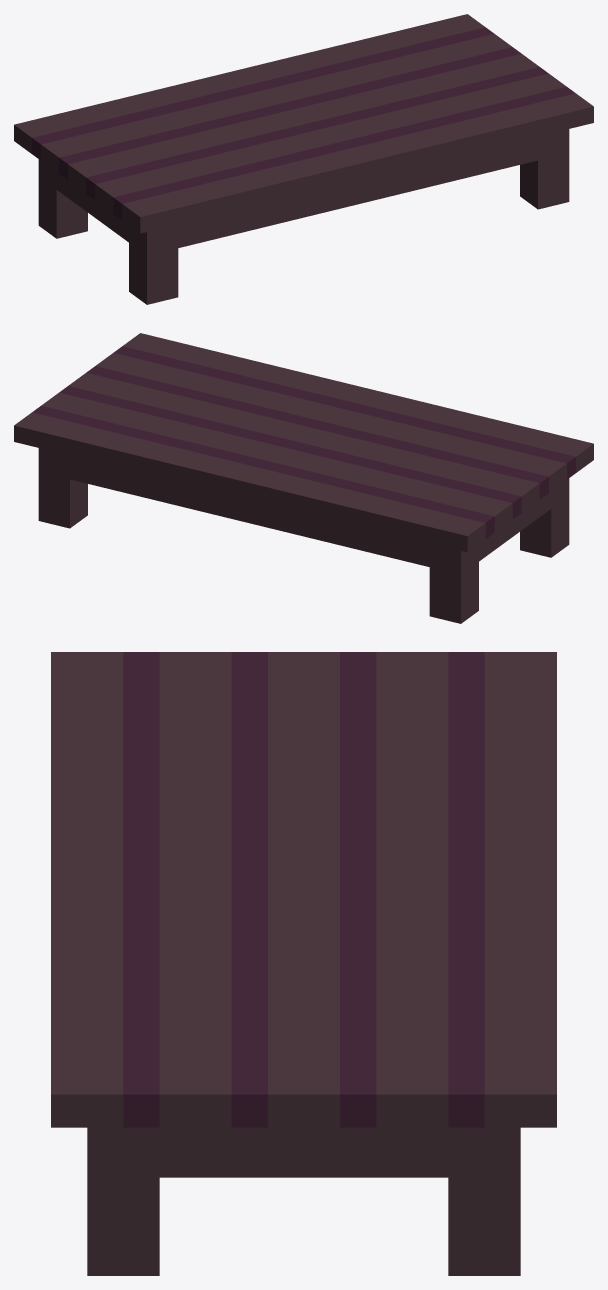
File: large_table_c.obj
3 views of the same model, one above another, from view 1: azimuth 30°, elevation 25°; view 2: azimuth 150°, elevation 25°; view 3: azimuth 270°, elevation 25° (orthographic). The views are drawn at different scales.
Bounding box in the file's own units: 2.9 × 0.6 × 1.4.
1 material, 1 textured.
